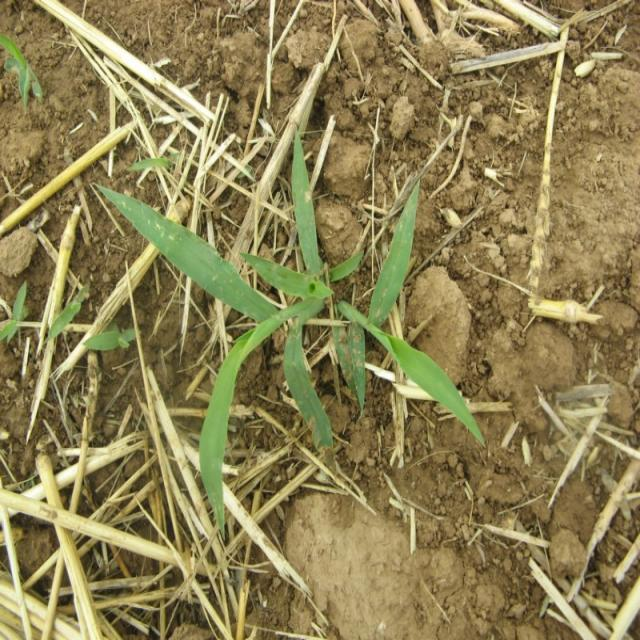bg: (94, 135, 485, 531)
